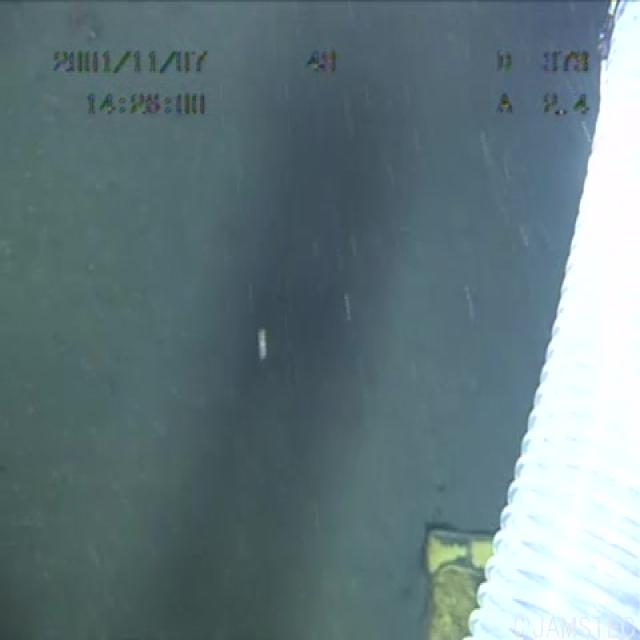plastic: (412, 507, 505, 638)
